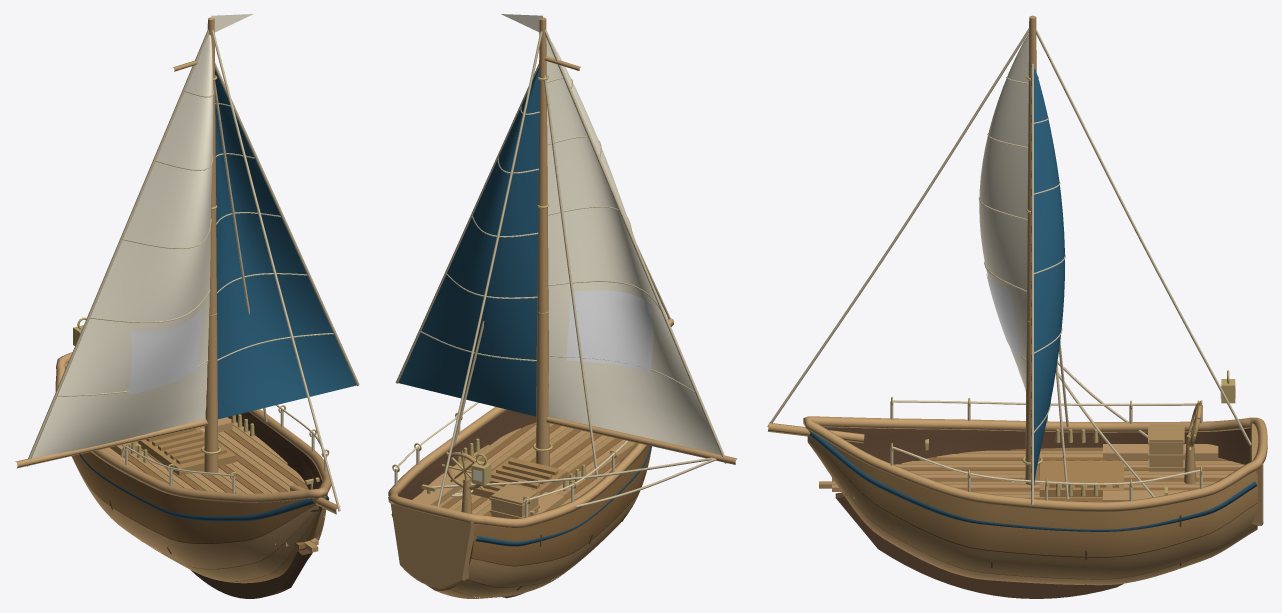
Rendered from youthverse-explorer.glb.
3 views of the same model, side by side, from view 1: azimuth 30°, elevation 25°; view 2: azimuth 150°, elevation 25°; view 3: azimuth 270°, elevation 25° (orthographic). The views are drawn at different scales.
Visible parts, largest first — view 1: MainSail, JibSail, Hull_Planks_3, Hull_Planks_2, Sewn_Sail_Panels_And_Edge_Binding, SailMarkFront, Gunwale_Thick_Timber_Rim, Mast, Standing_And_Running_Rigging, Deck_Hatch, Deck_Planks_0, Deck_Planks_1 (+10 smaller); view 2: MainSail, JibSail, Hull_Planks_3, SailMarkBack, Stern_Transom, Standing_And_Running_Rigging, Mast, Gunwale_Thick_Timber_Rim, Sewn_Sail_Panels_And_Edge_Binding, Hull_Planks_2, Deck_Planks_2, Deck_Planks_1 (+11 smaller); view 3: Hull_Planks_0, MainSail, Gunwale_Thick_Timber_Rim, Hull_Planks_1, JibSail, Hull_Inner_Shell, Standing_And_Running_Rigging, Keel, Deck_Planks_2, Hull_Planks_2, Deck_Planks_0, Hull_Seam_Backing (+11 smaller).
Part boxes in pixels (x1,y1,x2,y2): MainSail: [31, 34, 213, 458]; JibSail: [215, 70, 356, 419]; Hull_Planks_3: [72, 452, 320, 549]; Hull_Planks_2: [71, 456, 321, 568]; Sewn_Sail_Panels_And_Edge_Binding: [27, 29, 359, 466]; SailMarkFront: [128, 308, 202, 394]; Gunwale_Thick_Timber_Rim: [55, 352, 331, 502]; Mast: [204, 17, 218, 472]; Standing_And_Running_Rigging: [120, 30, 340, 511]; Deck_Hatch: [138, 427, 236, 475]; Deck_Planks_0: [129, 425, 321, 552]; Deck_Planks_1: [104, 417, 318, 546]; MainSail: [546, 38, 720, 454]; JibSail: [398, 68, 539, 416]; Hull_Planks_3: [435, 445, 651, 594]; SailMarkBack: [566, 290, 653, 373]; Stern_Transom: [390, 501, 476, 587]; Standing_And_Running_Rigging: [432, 31, 716, 507]; Mast: [536, 17, 549, 466]; Gunwale_Thick_Timber_Rim: [388, 407, 647, 527]; Sewn_Sail_Panels_And_Edge_Binding: [395, 29, 726, 463]; Hull_Planks_2: [466, 484, 642, 587]; Deck_Planks_2: [441, 422, 636, 516]; Deck_Planks_1: [422, 425, 629, 514]; Hull_Planks_0: [808, 430, 1257, 556]; MainSail: [979, 34, 1028, 391]; Gunwale_Thick_Timber_Rim: [803, 416, 1267, 511]; Hull_Planks_1: [807, 435, 1257, 579]; JibSail: [1034, 69, 1064, 485]; Hull_Inner_Shell: [847, 433, 1250, 464]; Standing_And_Running_Rigging: [767, 28, 1251, 499]; Keel: [835, 492, 1123, 598]; Deck_Planks_2: [832, 447, 1239, 501]; Hull_Planks_2: [807, 439, 1257, 585]; Deck_Planks_0: [819, 450, 1241, 501]; Hull_Seam_Backing: [813, 427, 1257, 584].
Size of the model in its own units: 2.9 by 4.57 by 3.56.
